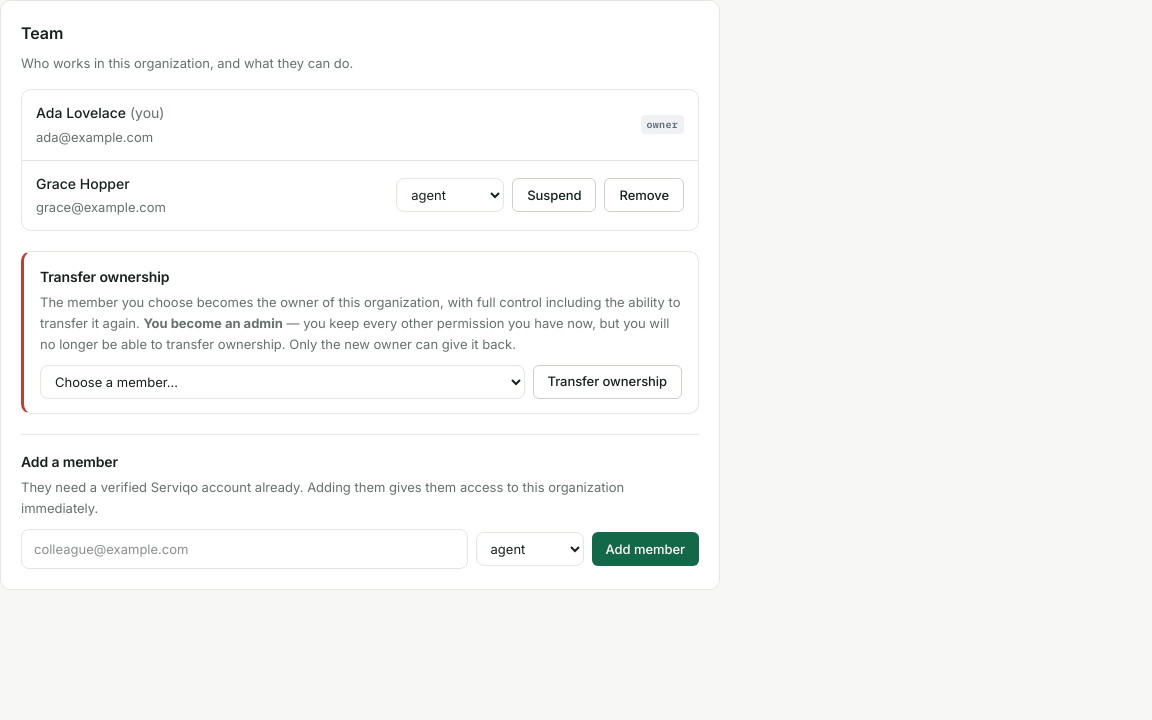
it: TransferOwnership › post-transfer state › shows a success notice saying what the reader is now
The width and height of the screenshot is (1152, 720).
Expected: the text "Grace Hopper" is shown, [36,175,130,192]
Select "Grace Hopper (agent)" in the dropdown named "new owner" below "You become an admin": (282, 382) [40,364,524,398]
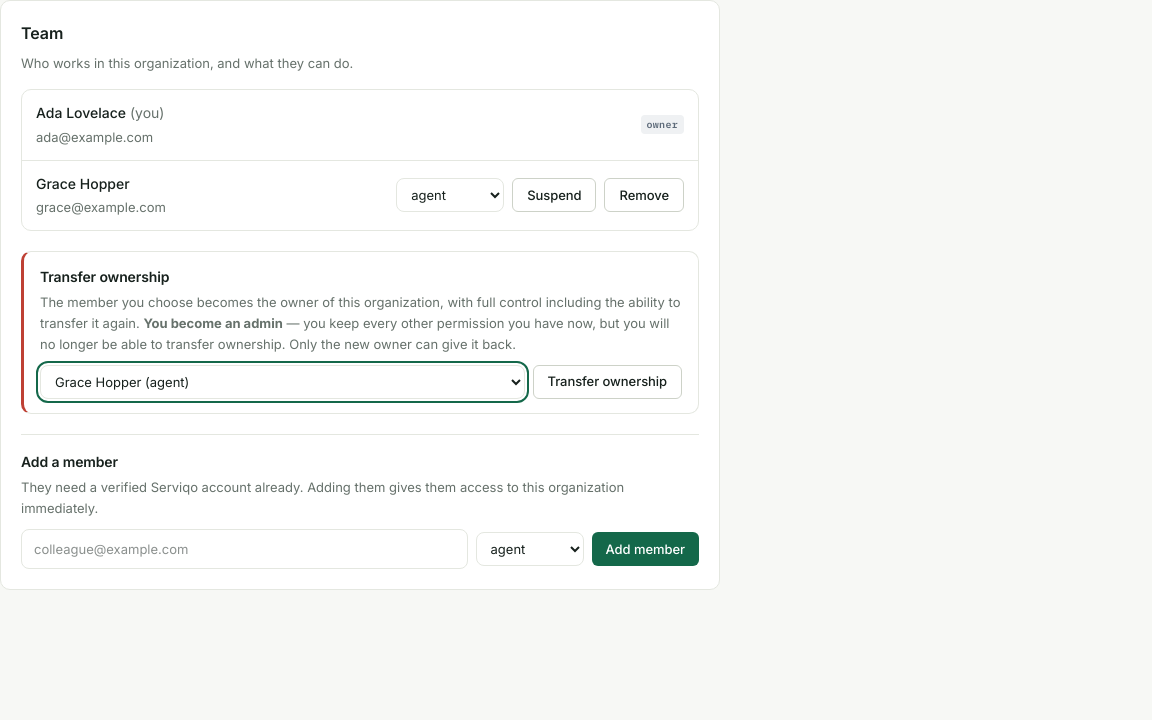
Click the button "Transfer ownership": (607, 382) [532,364,682,398]
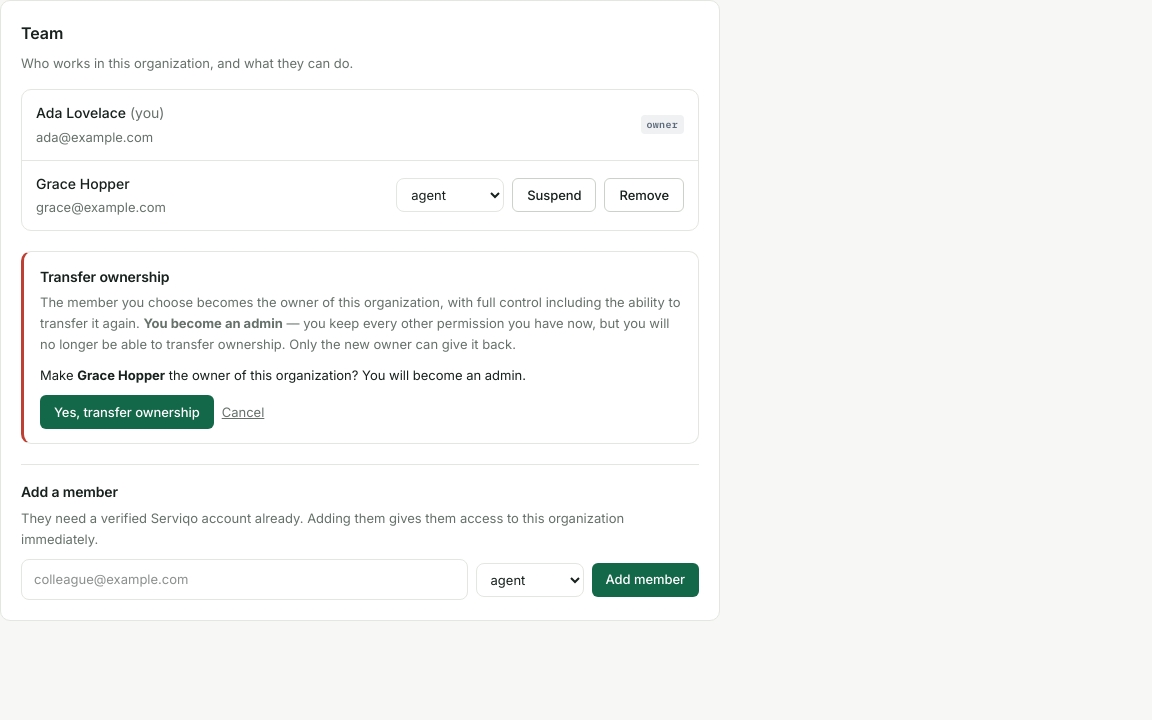
Click the button "Yes, transfer ownership": (127, 412) [40,395,214,429]
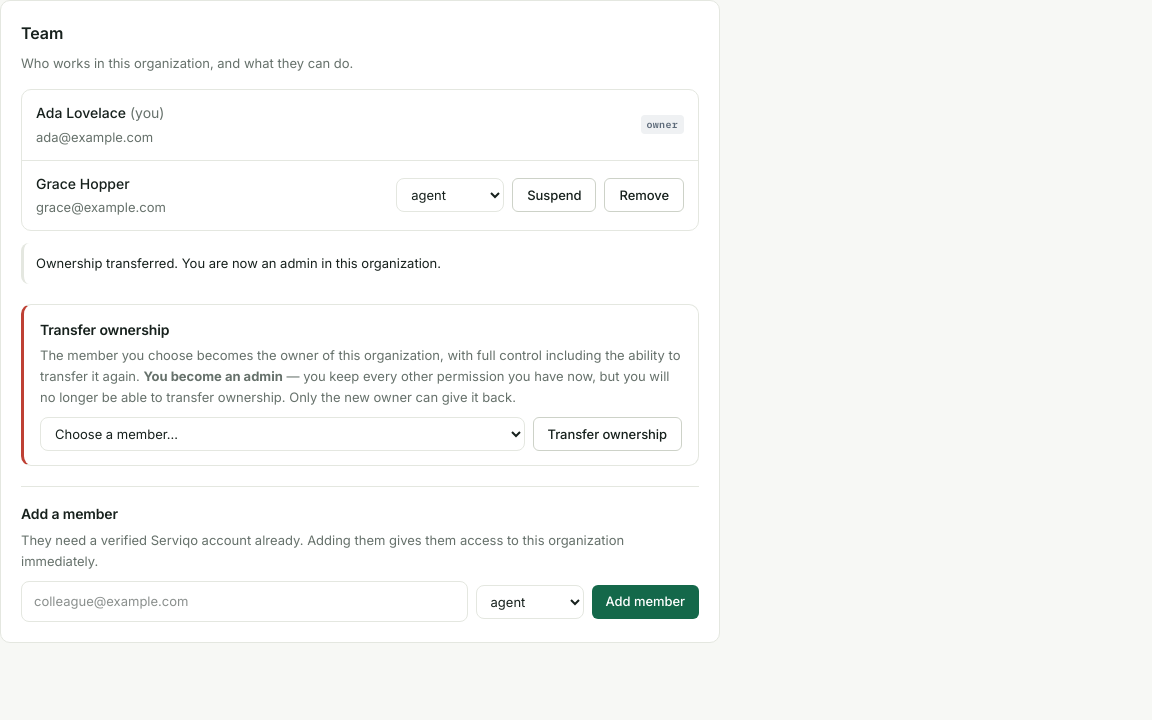
Result: the text "Ownership transferred. You are now an admin in this organization." is shown at [21,243,699,284]
